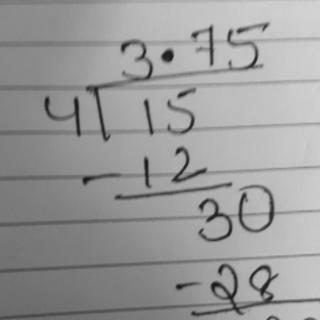.: (157, 44, 178, 70)
0: (237, 183, 279, 233)
1: (141, 95, 154, 135), (142, 157, 153, 190)
2: (168, 147, 208, 183), (212, 264, 244, 307)
3: (194, 194, 234, 241), (120, 36, 155, 83)
4: (40, 93, 84, 140)
5: (226, 17, 275, 68), (164, 86, 201, 135)
7: (188, 22, 219, 70)
8: (246, 264, 280, 303)
